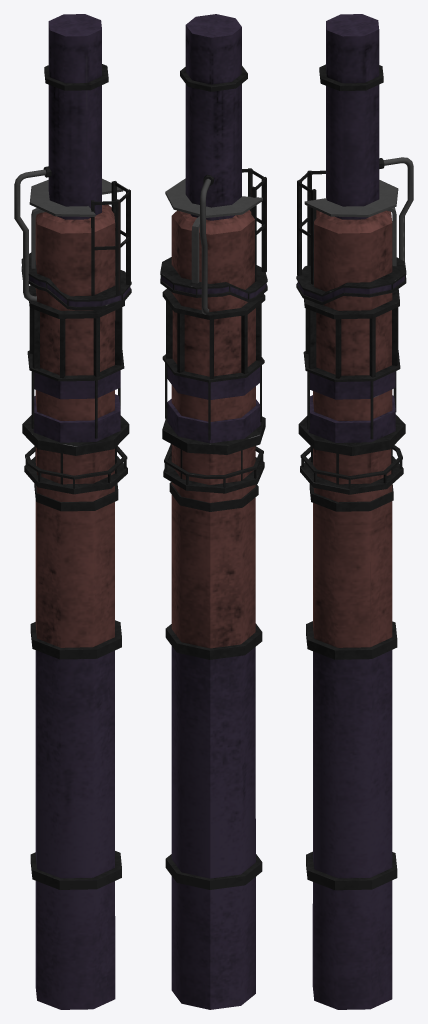
File: ETC0710021.fbx
3 renders of one model, left to right at view 1: azimuth 90°, elevation 25°; view 2: azimuth 150°, elevation 25°; view 3: azimuth 270°, elevation 25°, orthographic.
Visible parts, largest first — view 1: smETC0710021; view 2: smETC0710021; view 3: smETC0710021.
Boxes of the visible parts, x1,y1,x2,y2 form: smETC0710021: (14,14,131,1009); smETC0710021: (160,14,267,1009); smETC0710021: (296,14,413,1009).
Size of the model in its own units: 1568 by 15629 by 1721.
Materials: 1 (1 with a texture image).
